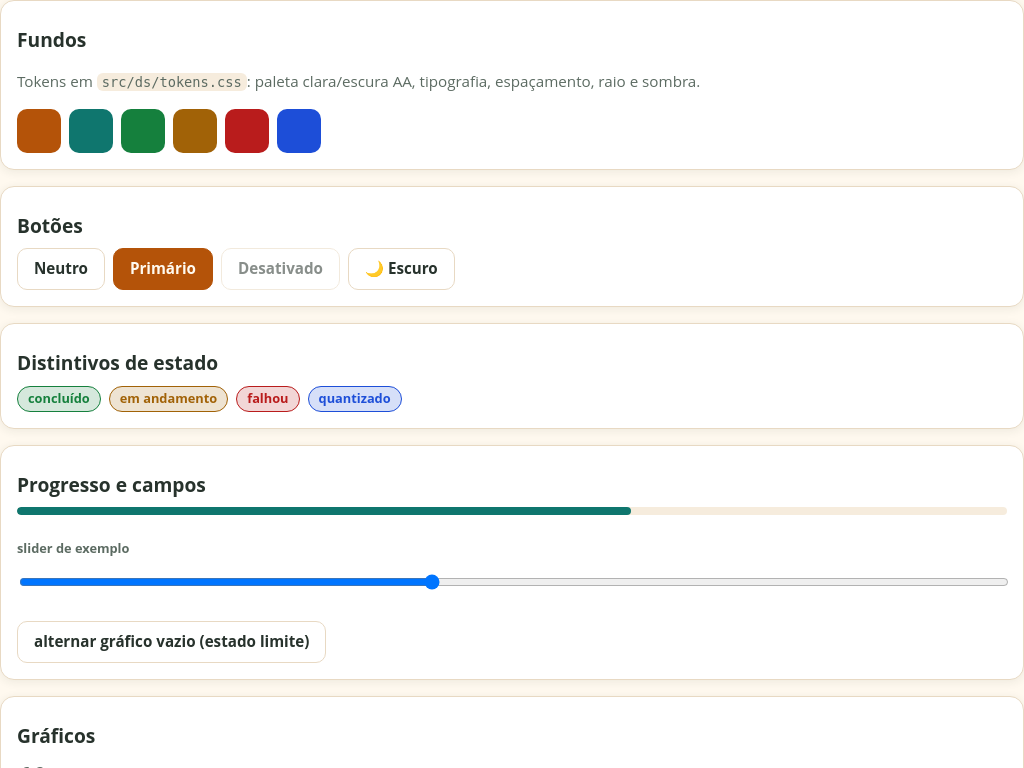
Scenario: CatalogoDS › interage com estado limite do gráfico
The image size is (1024, 768).
Click the button "alternar gráfico vazio (estado limite)" at (172,642), box x1=17 y1=621 x2=326 y2=663
(page scrolled)
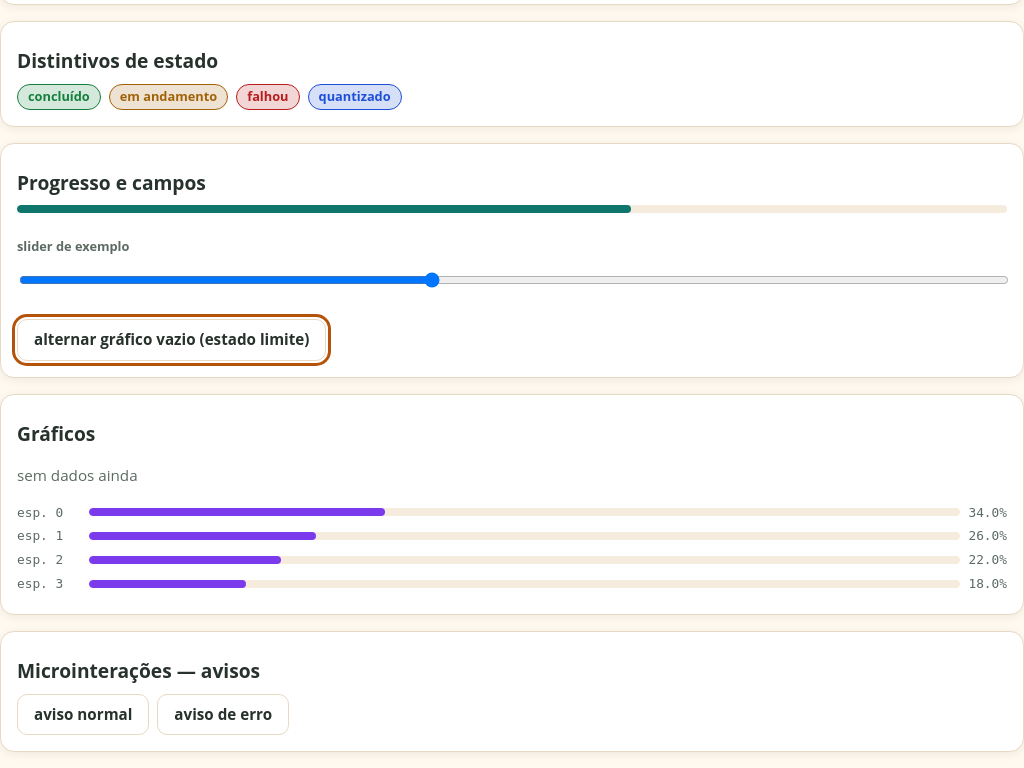
Now the text "sem dados ainda" is shown, box x1=17 y1=465 x2=138 y2=485
Click the button "aviso normal" at (83,714), box x1=17 y1=694 x2=149 y2=735
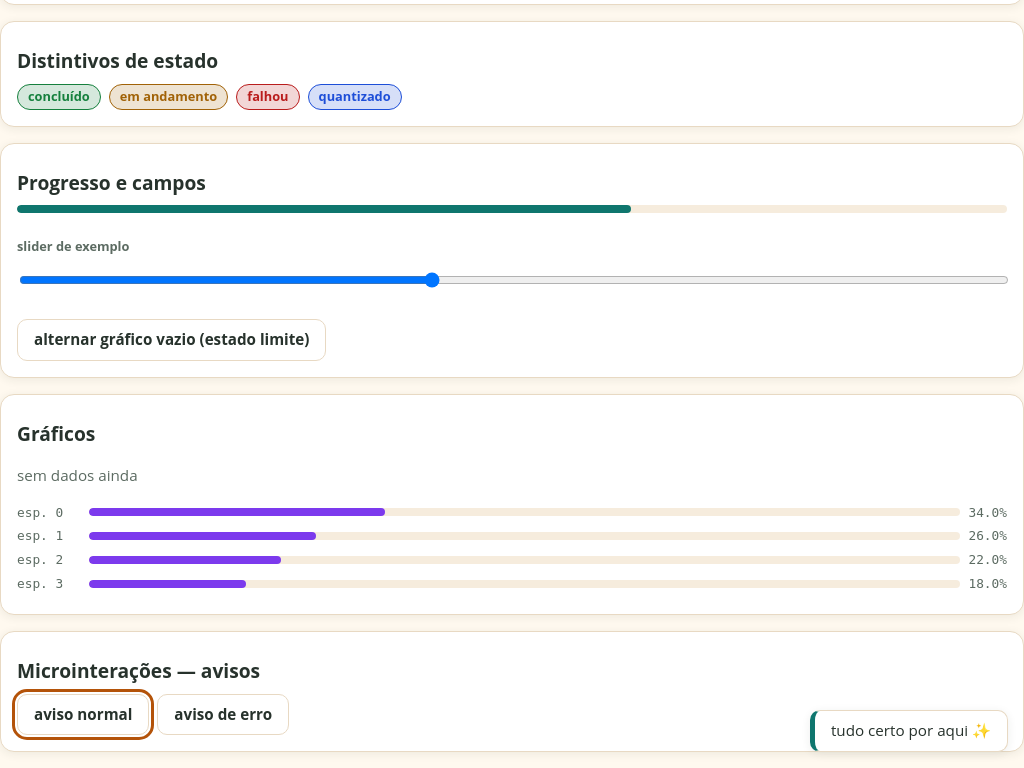
Now the message "tudo certo por aqui ✨" is shown, box x1=810 y1=710 x2=1008 y2=752
